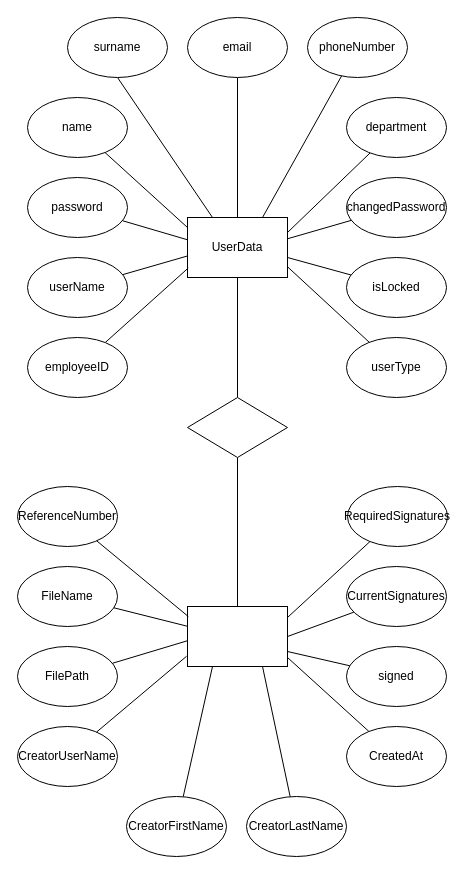
This 468x874 diagram has some shape labels left out. The centre of each missing label's shape, as x and y in pixels:
"(Username)Files" goes at point (237, 636).
"uploads & signs" goes at point (237, 427).
